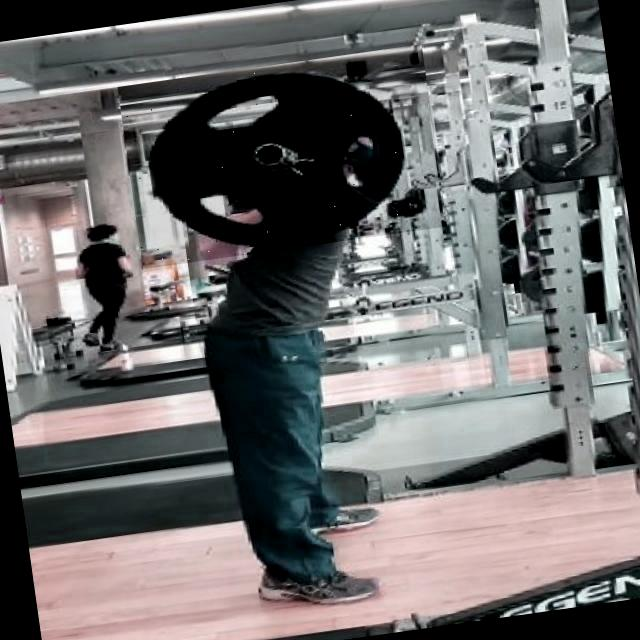barbell: (118, 45, 449, 272)
